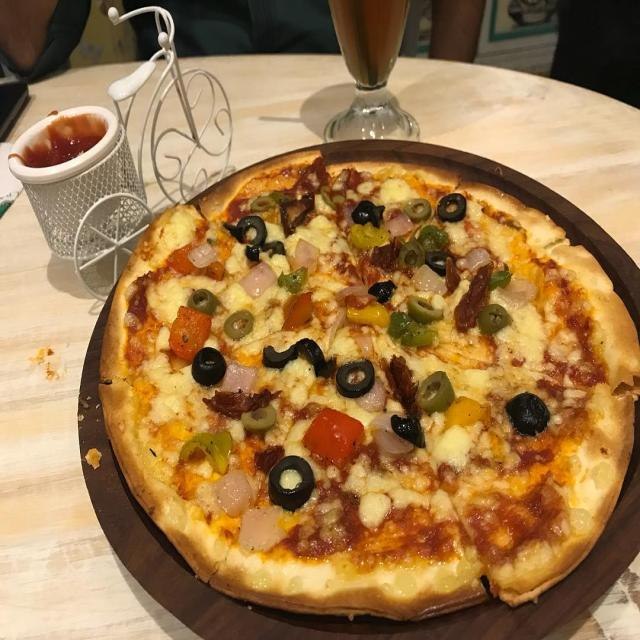black_olives: (266, 456, 316, 513), (504, 392, 551, 438), (334, 357, 374, 398), (191, 344, 227, 387), (389, 412, 425, 448), (295, 337, 326, 378), (258, 341, 296, 371), (236, 215, 268, 249), (436, 191, 468, 223), (350, 200, 385, 228), (422, 249, 459, 275), (367, 280, 399, 304), (263, 238, 287, 258), (222, 221, 244, 242), (244, 242, 262, 261)
green_olives: (415, 368, 456, 416), (406, 294, 444, 324), (242, 402, 276, 432), (478, 304, 510, 335), (222, 309, 255, 339), (185, 288, 218, 314), (397, 240, 425, 270), (404, 196, 432, 224), (249, 195, 277, 212)
pizza: (97, 148, 640, 626)
